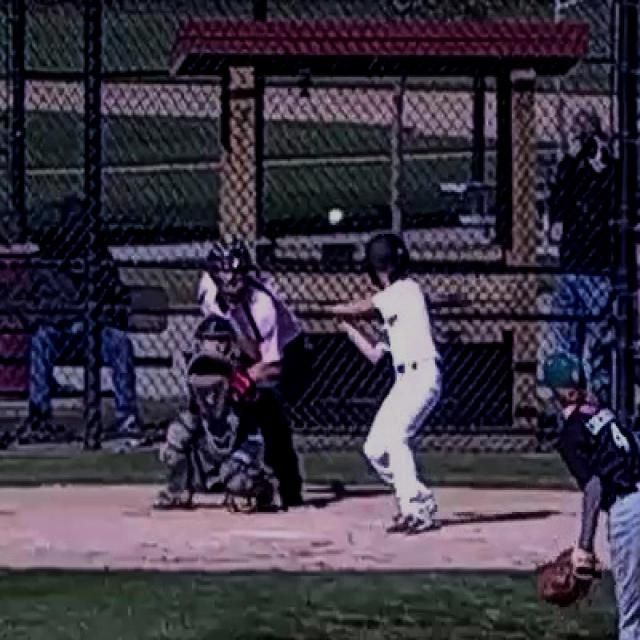baseball: (330, 210, 342, 224)
